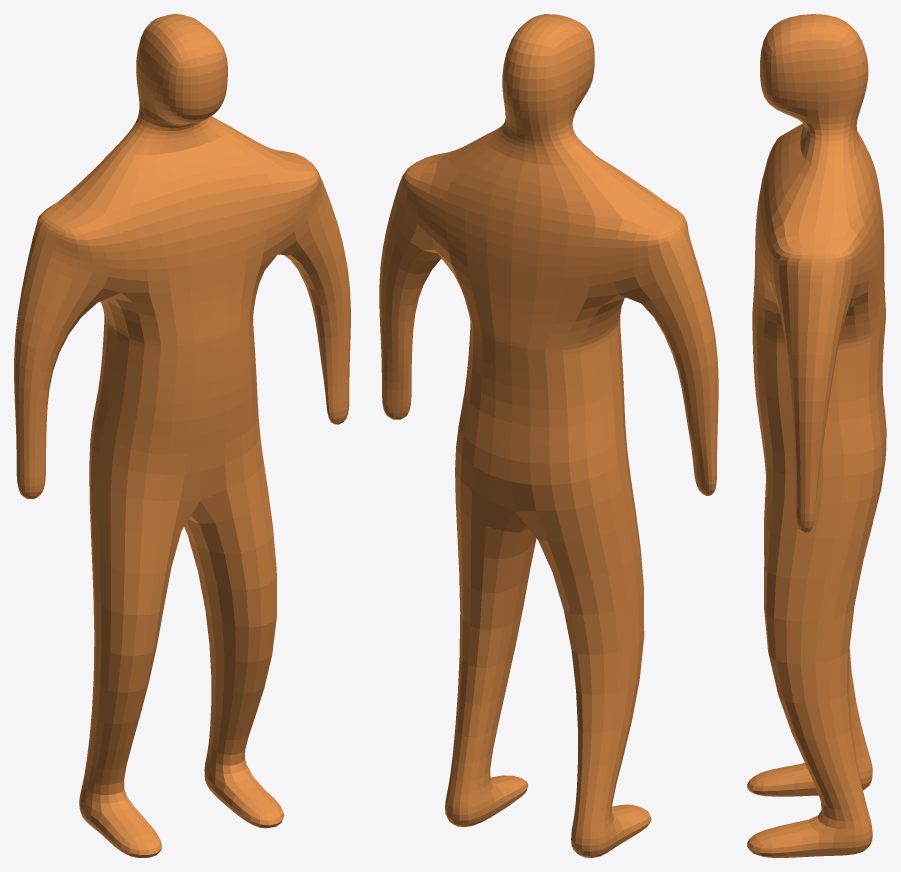
File: konsta.fbx
3 views of the same model, side by side, from view 1: azimuth 30°, elevation 25°; view 2: azimuth 150°, elevation 25°; view 3: azimuth 270°, elevation 25° (orthographic).
Visible parts, largest first — view 1: Cube; view 2: Cube; view 3: Cube.
Part boxes in pixels (x1=…): Cube: x1=14, y1=14, x2=350, y2=857; Cube: x1=379, y1=14, x2=718, y2=857; Cube: x1=747, y1=14, x2=886, y2=857.
Size of the model in its own units: 683 by 1576 by 247.
